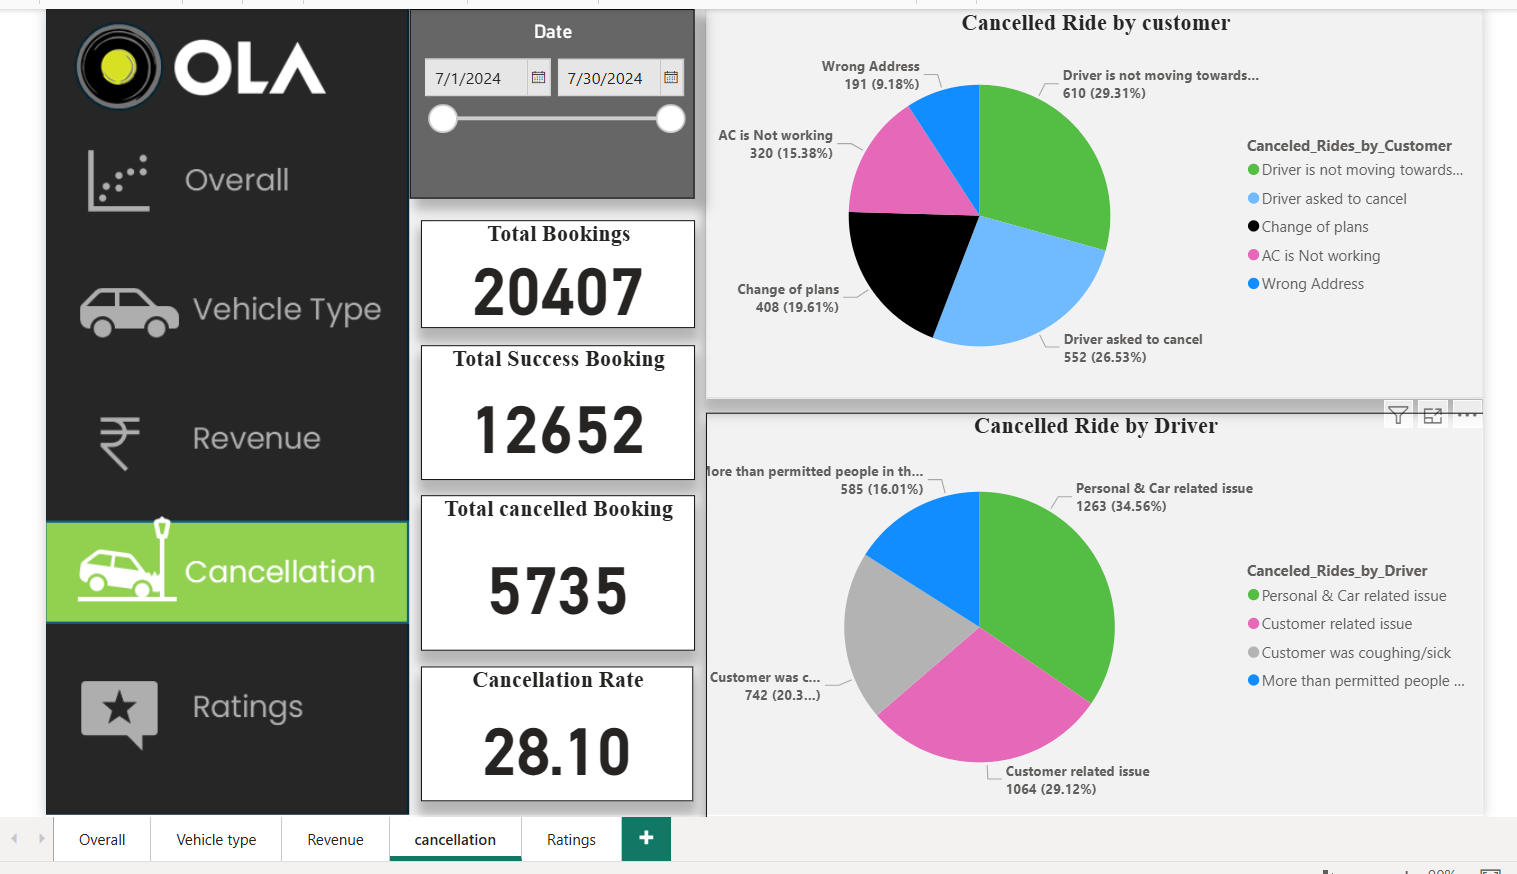

The page's visual inventory and layout, read from the dashboard file:
{"tool":"powerbi","page":{"name":"cancellation","canvas":[1280,720],"ordinal":3},"visuals":[{"type":"actionButton","box":[0,109.8,323.3,95.3],"z":0},{"type":"actionButton","box":[0,222,323.3,95.3],"z":1000},{"type":"actionButton","box":[0,337.8,323.3,95.3],"z":2000},{"type":"actionButton","box":[0,571.9,323.3,95.3],"z":3000},{"type":"pieChart","title":"Cancelled Ride by customer ","fields":{"Category":["Bookings-20000-Rows xlsx - July.Canceled_Rides_by_Customer"],"Y":["CountNonNull(Bookings-20000-Rows xlsx - July.Canceled_Rides_by_Customer)"]},"box":[587.3,0,693,347.2],"z":4000},{"type":"pieChart","title":"Cancelled Ride by Driver","fields":{"Category":["Bookings-20000-Rows xlsx - July.Canceled_Rides_by_Driver"],"Y":["CountNonNull(Bookings-20000-Rows xlsx - July.Canceled_Rides_by_Driver)"]},"box":[587.3,359.5,693,360.9],"z":5000},{"type":"slicer","title":"Date","fields":{"Values":["Bookings-20000-Rows xlsx - July.Date"]},"box":[323.8,0,253.9,168.8],"z":6000},{"type":"card","title":"Total Bookings","fields":{"Values":["CountNonNull(Bookings-20000-Rows xlsx - July.Booking_ID)"]},"box":[333.4,188,244.3,96.1],"z":7000},{"type":"card","title":"Total Success Booking","fields":{"Values":["CountNonNull(Bookings-20000-Rows xlsx - July.Booking_ID)"]},"box":[333.5,299.3,243.7,119.7],"z":8000},{"type":"card","title":"Total cancelled Booking","fields":{"Values":["CountNonNull(Bookings-20000-Rows xlsx - July.Booking_ID)"]},"box":[333.5,433.3,243.7,138.3],"z":9000},{"type":"card","title":"Cancellation Rate","fields":{"Values":["Bookings-20000-Rows xlsx - July.canceled_percentage"]},"box":[333.5,585.8,242.3,119.7],"z":9001}]}

Visuals, with their boxes on the page's 1280x720 design canvas (x1, y1, x2, y2). These are canvas units, not pixel positions in the 1517x874 screenshot, which may show the page scaled, cropped or inside an application window:
actionButton: (0,110,323,205)
actionButton: (0,222,323,317)
actionButton: (0,338,323,433)
actionButton: (0,572,323,667)
"Cancelled Ride by customer " pieChart: (587,0,1280,347)
"Cancelled Ride by Driver" pieChart: (587,360,1280,720)
"Date" slicer: (324,0,578,169)
"Total Bookings" card: (333,188,578,284)
"Total Success Booking" card: (334,299,577,419)
"Total cancelled Booking" card: (334,433,577,572)
"Cancellation Rate" card: (334,586,576,706)
